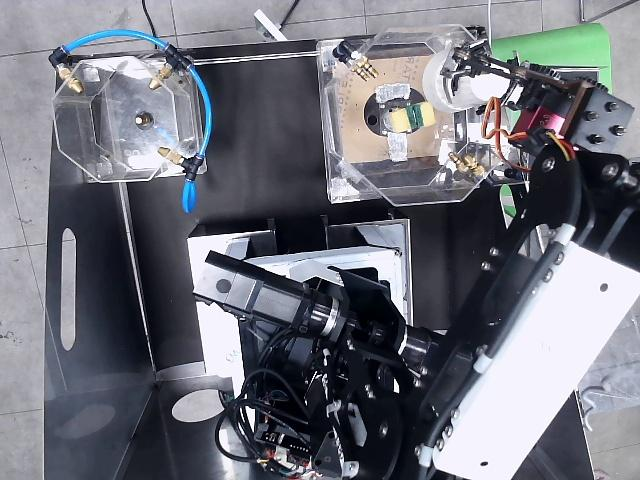cup: (423, 48, 507, 112)
